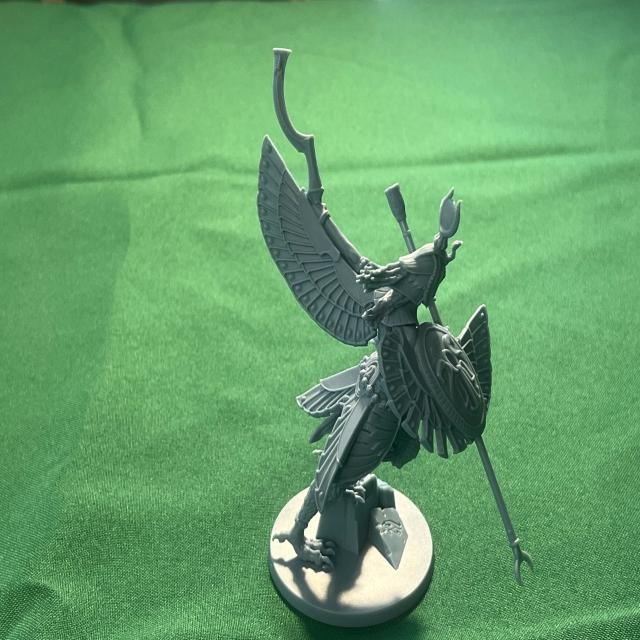isis: (249, 34, 543, 640)
